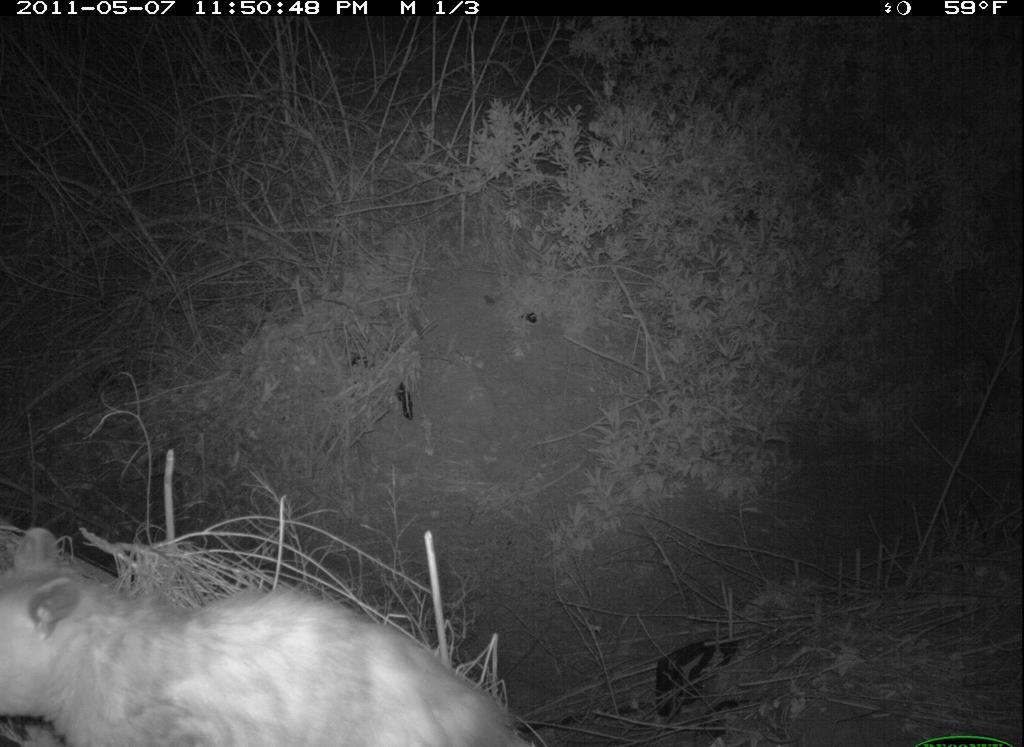opossum: (6, 527, 548, 747)
